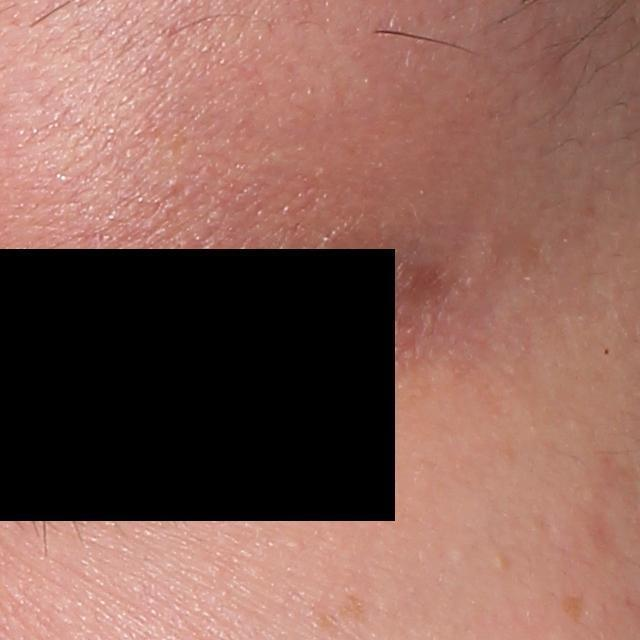melasma: (307, 595, 365, 633), (558, 593, 584, 625)
other: (492, 551, 511, 573)
